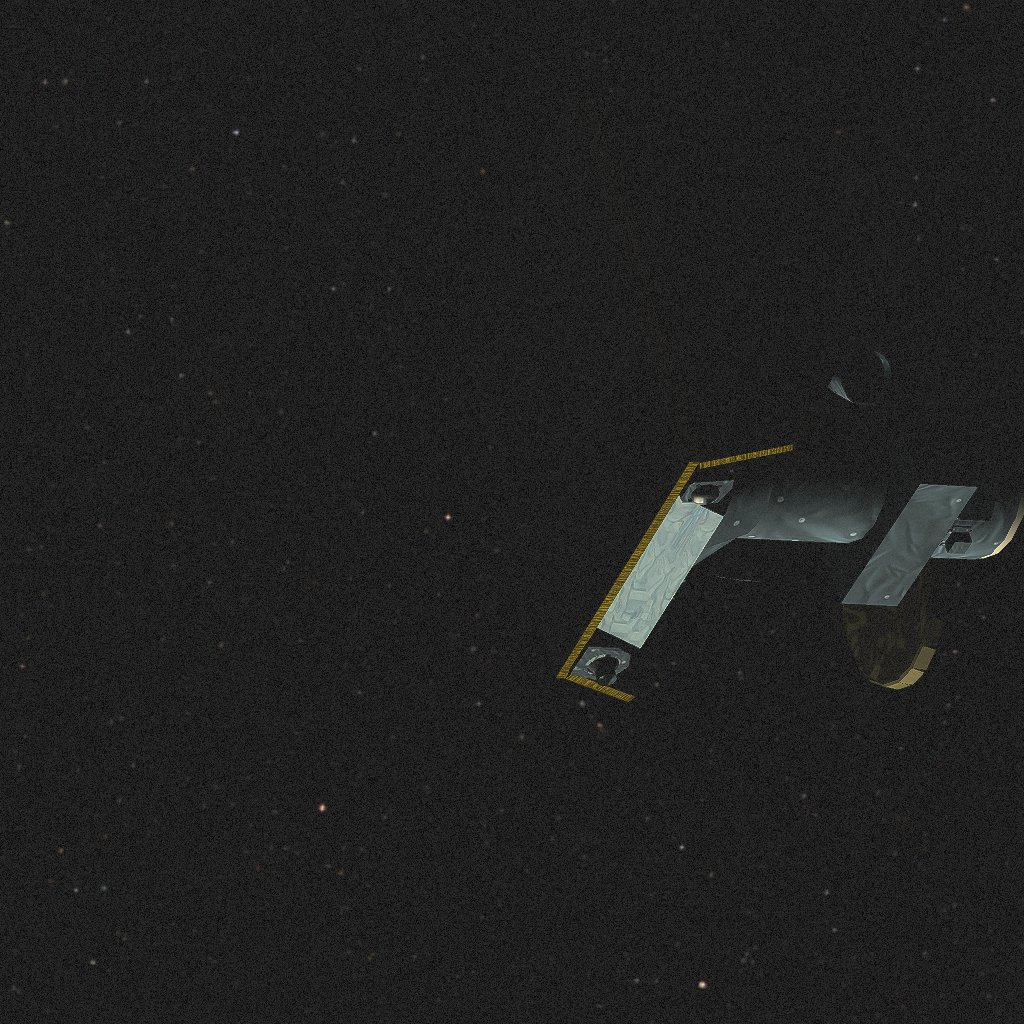cheops: (456, 57, 1024, 702)
